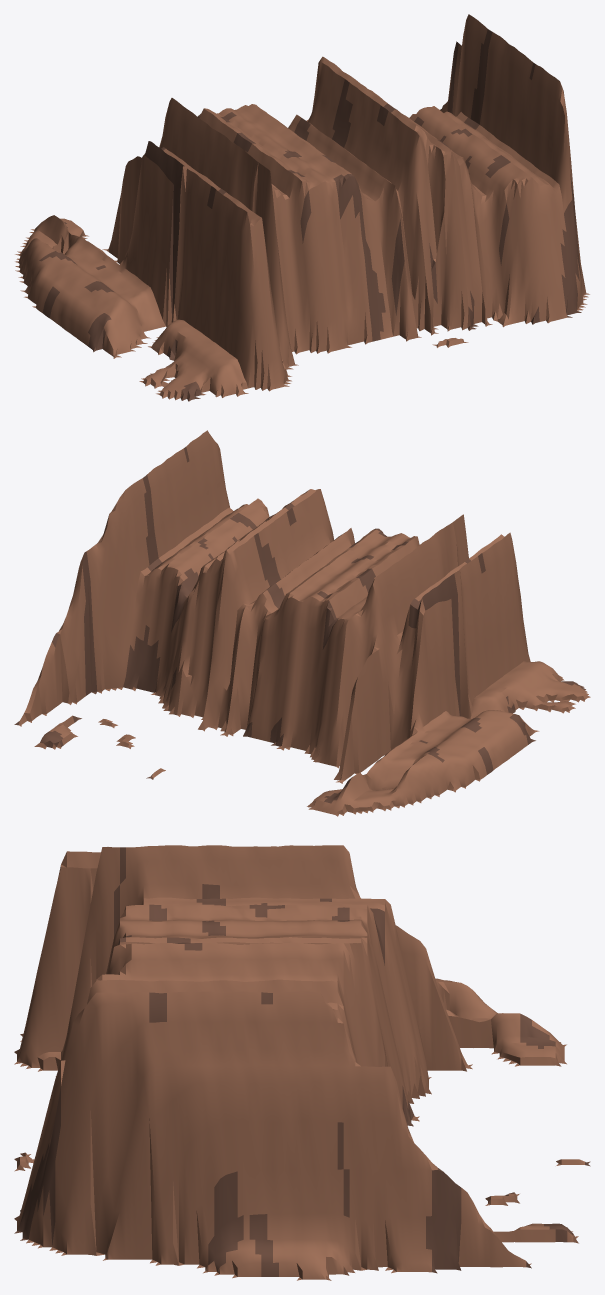
File: fulgoran-ruin-vault.glb
3 renders of one model, top to bottom at view 1: azimuth 30°, elevation 25°; view 2: azimuth 150°, elevation 25°; view 3: azimuth 270°, elevation 25°, orthographic. The views are drawn at different scales.
Visible parts, largest first — view 1: body; view 2: body; view 3: body.
Boxes of the visible parts, x1,y1,x2,y2 form: body: (15, 14, 589, 401); body: (14, 430, 590, 816); body: (14, 845, 590, 1280).
Size of the model in its own units: 14.25 by 5.97 by 12.25.
